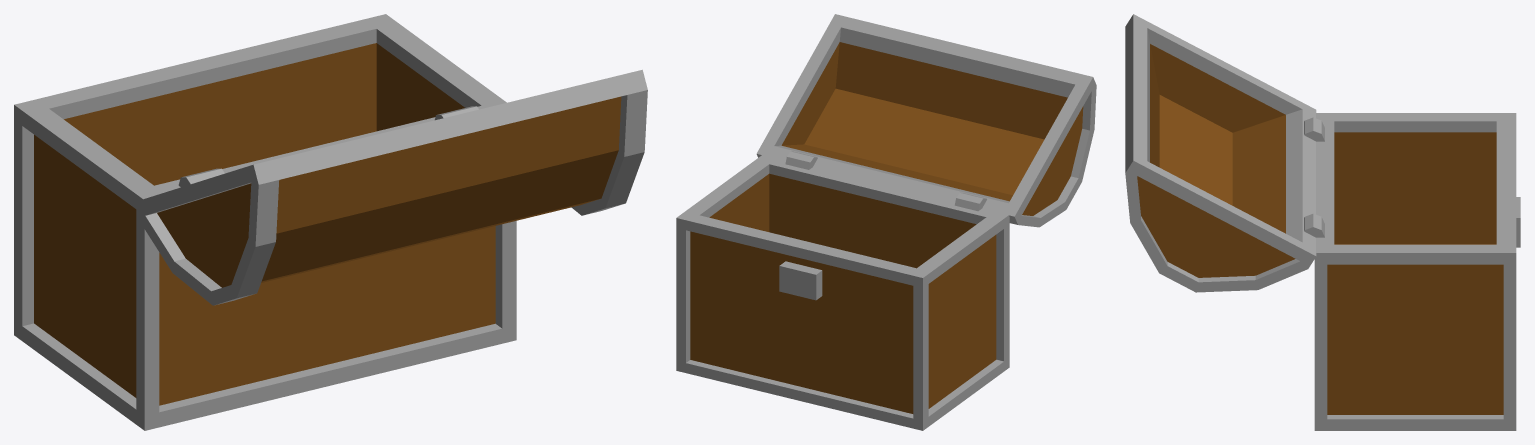
Rendered from FBX_CHEST.fbx.
The picture shows the model from 3 angles, left to right: view 1: azimuth 30°, elevation 25°; view 2: azimuth 150°, elevation 25°; view 3: azimuth 270°, elevation 25°; orthographic projection. The views are drawn at different scales.
Parts seen in each view (by area): view 1: PRO_COFFRE1; view 2: PRO_COFFRE1; view 3: PRO_COFFRE1.
Part boxes in pixels (x1=…): PRO_COFFRE1: x1=14, y1=14, x2=647, y2=430; PRO_COFFRE1: x1=676, y1=14, x2=1096, y2=430; PRO_COFFRE1: x1=1125, y1=14, x2=1520, y2=430.
Size of the model in its own units: 45.7 by 39.76 by 52.07.
